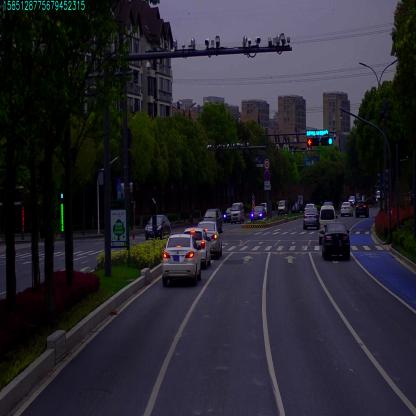traffic-light: (306, 129, 326, 135), (321, 138, 332, 146), (307, 138, 318, 146)
